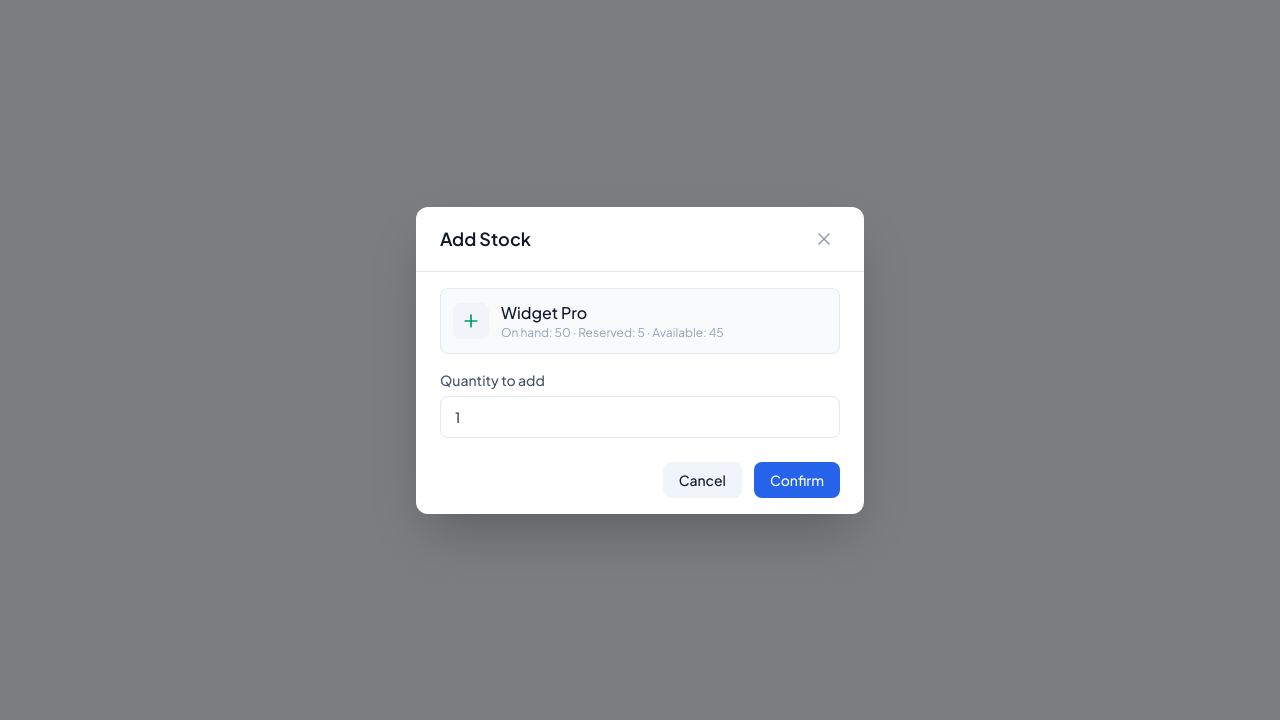
StockActionModal – add stock workflow › shows an API error alert when the server rejects
The image size is (1280, 720).
Step 1. Click the button "Confirm" → {"x": 797, "y": 480}, box [754,462,840,498]
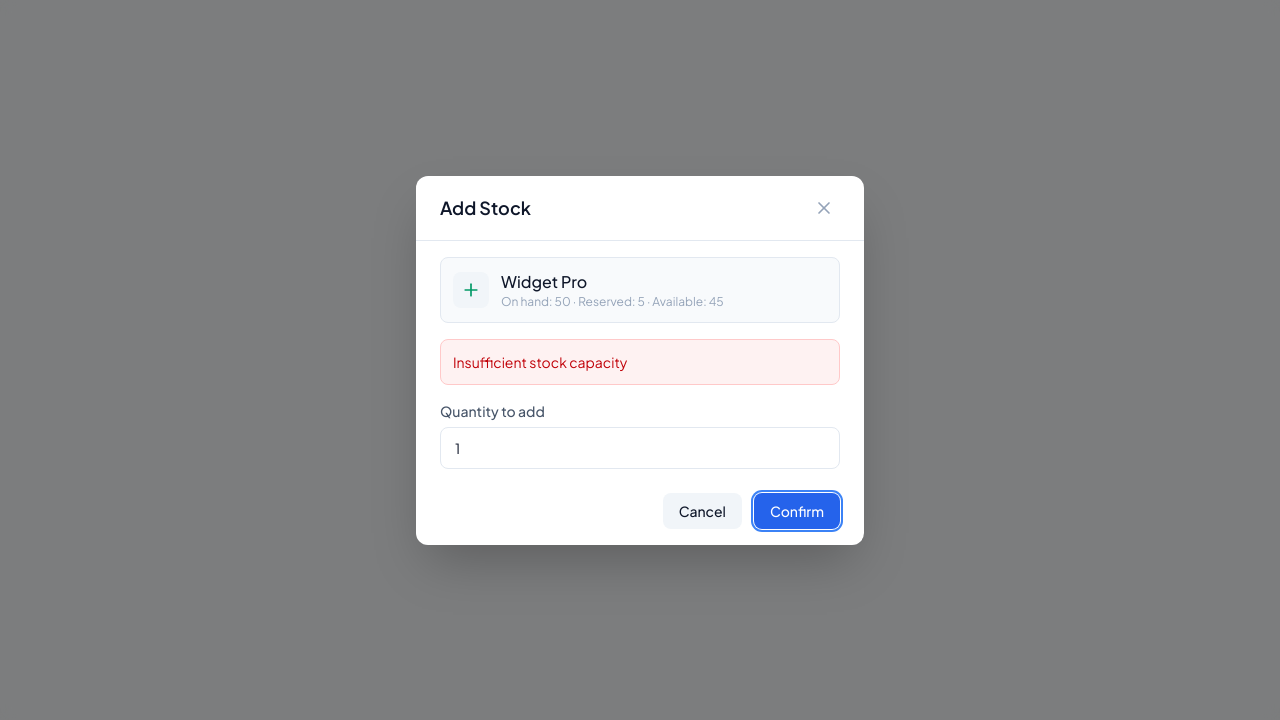
Expected: the text "Insufficient stock capacity" is shown, [453,352,627,370]
